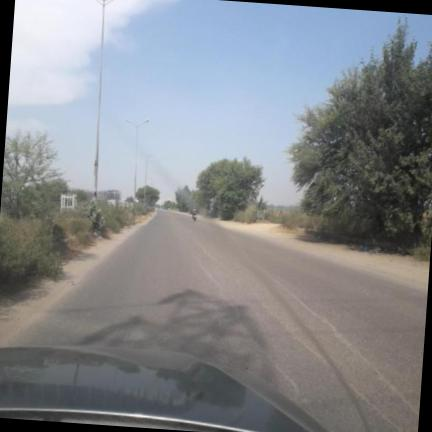Road: (13, 211, 427, 431)
